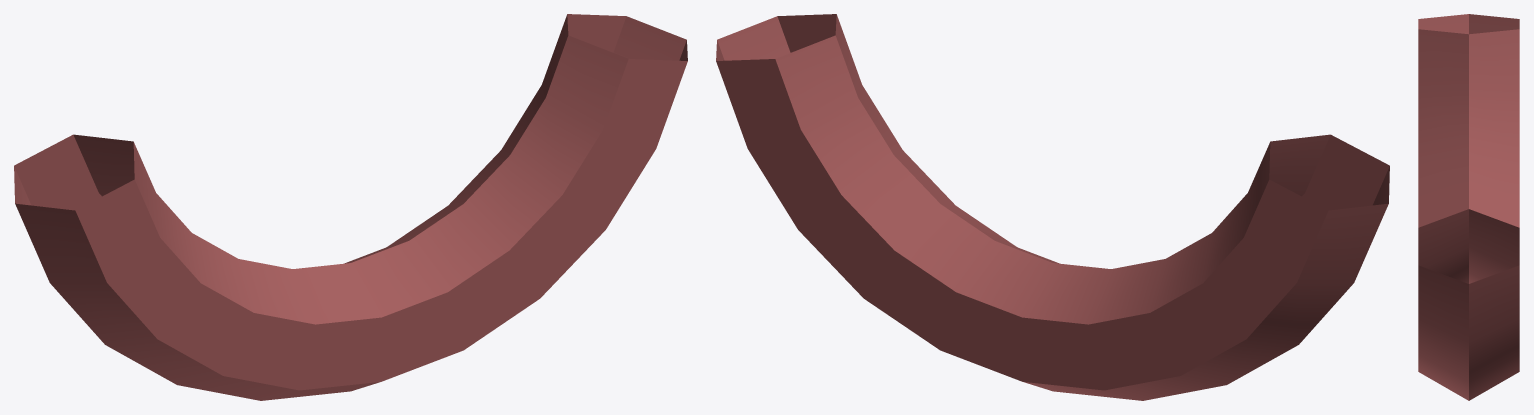
File: CharMouthSmile.fbx
3 renders of one model, left to right at view 1: azimuth 30°, elevation 25°; view 2: azimuth 150°, elevation 25°; view 3: azimuth 270°, elevation 25°, orthographic. The views are drawn at different scales.
Parts seen in each view (by area): view 1: CharMouthSmile; view 2: CharMouthSmile; view 3: CharMouthSmile.
Part boxes in pixels (x1,y1,x2,y2): CharMouthSmile: [14, 14, 687, 400]; CharMouthSmile: [716, 14, 1389, 400]; CharMouthSmile: [1418, 14, 1519, 400].
Size of the model in its own units: 0.0985 by 0.0425 by 0.0156.
